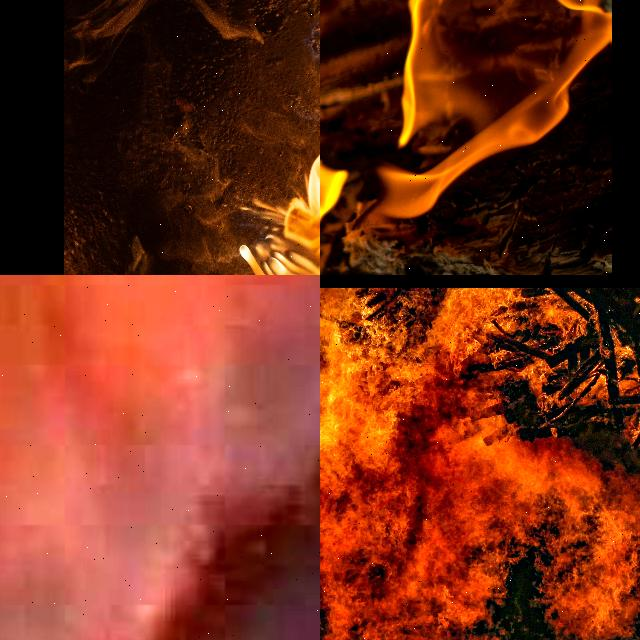fire: (320, 288, 640, 640), (369, 0, 610, 222)
smoke: (0, 275, 320, 640)
